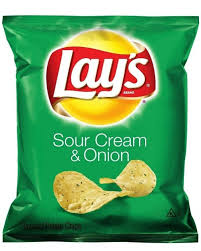lays-med: (4, 14, 198, 242)
